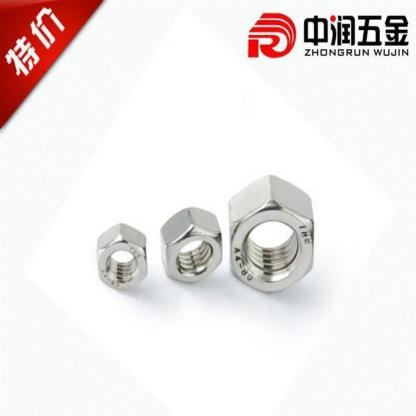FOD: (224, 173, 318, 296), (158, 204, 225, 285), (93, 220, 147, 293)
